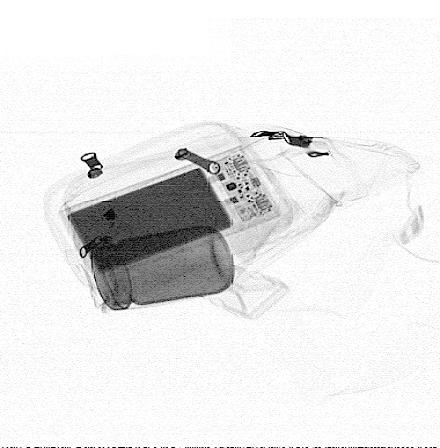Powerbank: (60, 145, 281, 281)
